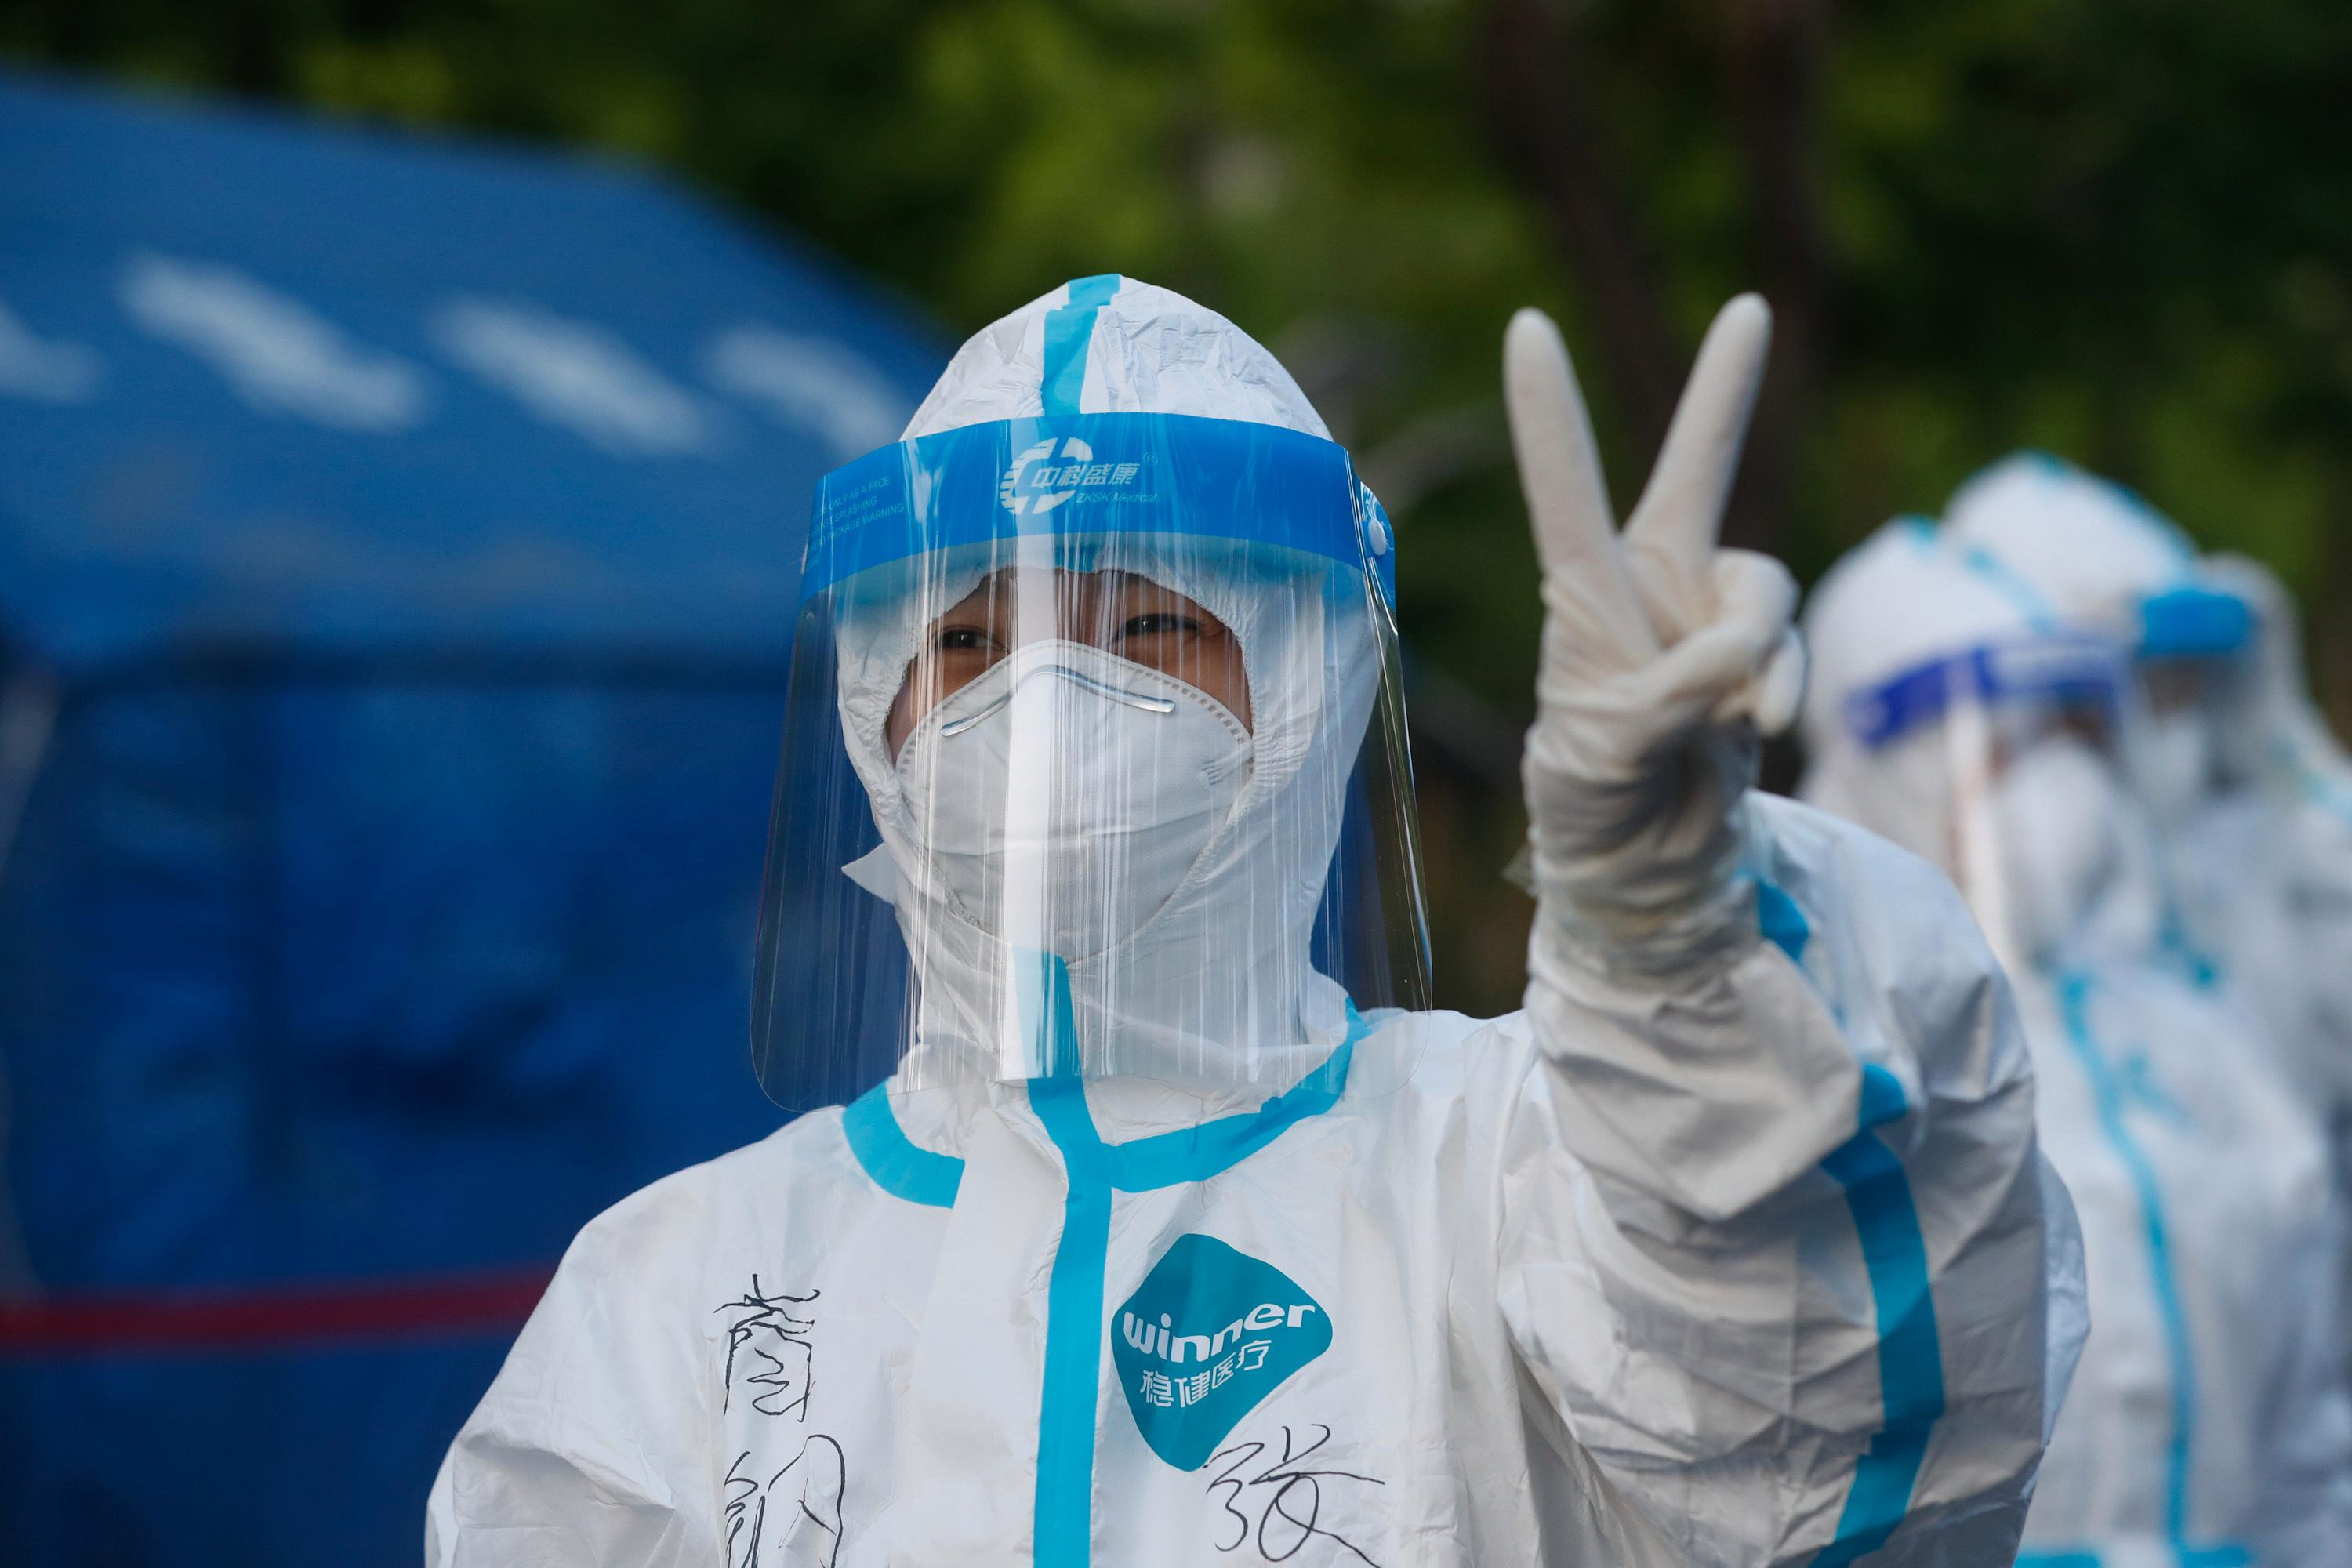no-phone: (1472, 271, 1824, 866)
